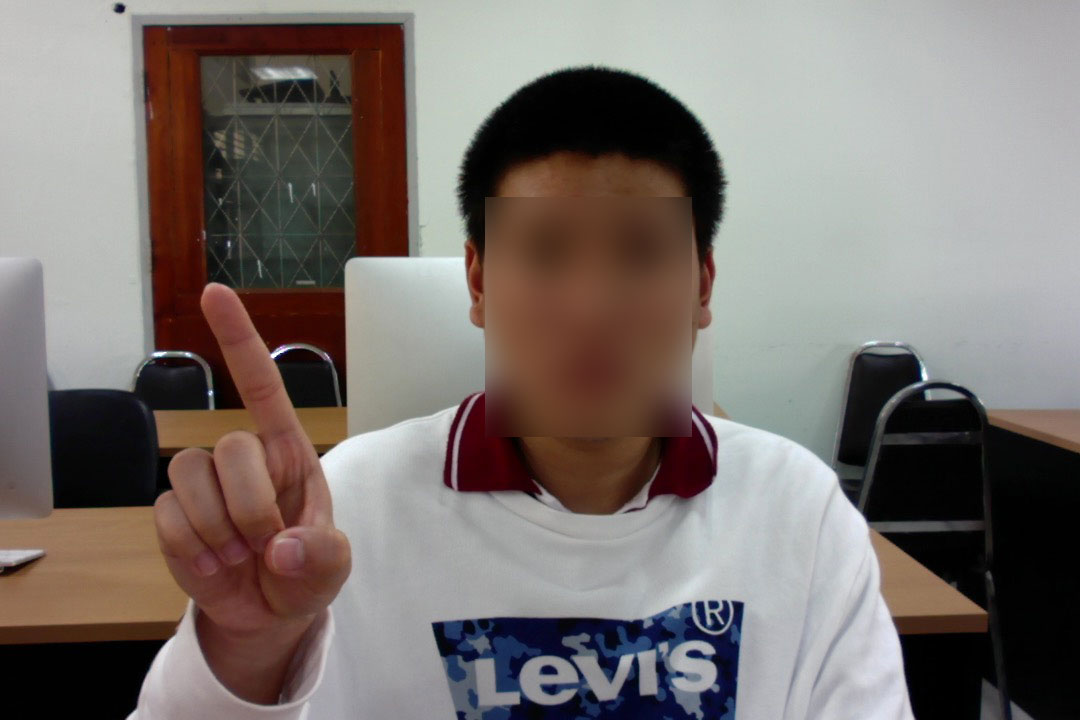dor: (145, 277, 361, 639)
